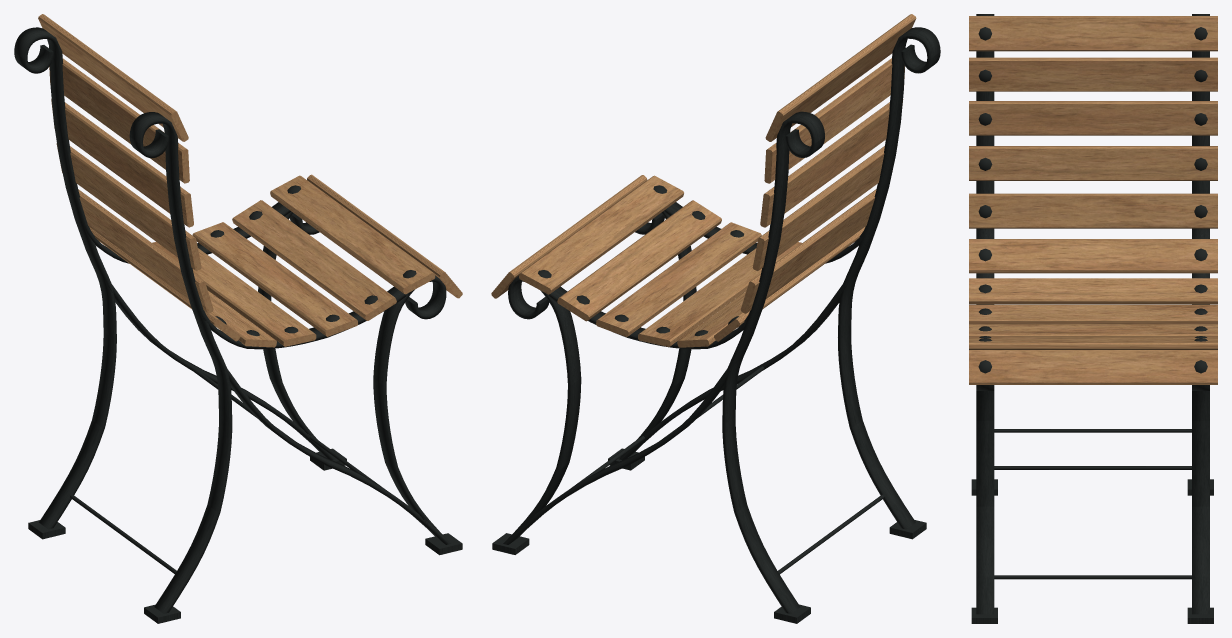
The model's file is chair2.fbx.
3 renders of one model, left to right at view 1: azimuth 30°, elevation 25°; view 2: azimuth 150°, elevation 25°; view 3: azimuth 270°, elevation 25°, orthographic. The views are drawn at different scales.
Parts seen in each view (by area): view 1: OP_01.001, N_02, OP_01; view 2: OP_01.001, N_02, OP_01; view 3: OP_01.001, N_02, OP_01.
Part boxes in pixels (bbox=[...]): OP_01.001: bbox=[38, 14, 462, 347]; N_02: bbox=[14, 27, 462, 623]; OP_01: bbox=[210, 185, 416, 335]; OP_01.001: bbox=[491, 14, 916, 347]; N_02: bbox=[492, 27, 940, 623]; OP_01: bbox=[538, 185, 743, 336]; OP_01.001: bbox=[969, 16, 1217, 384]; N_02: bbox=[971, 14, 1213, 623]; OP_01: bbox=[978, 27, 1207, 373].
Size of the model in its own units: 1972 by 2994 by 1417.
3 materials, 3 textured.
